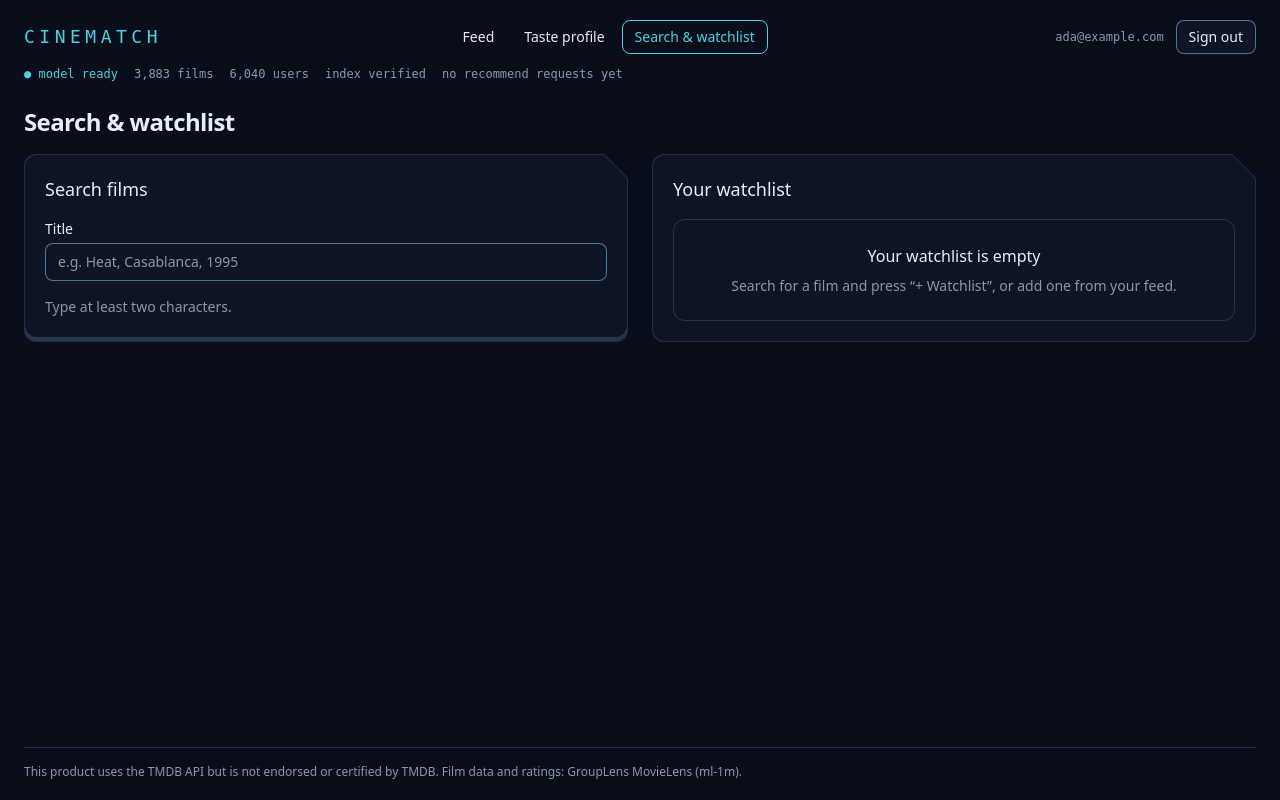
Search & watchlist › has an empty state for no matches and for an empty watchlist
This screenshot has width=1280, height=800.
Expected: the text "Your watchlist is empty" is shown, [868, 245, 1041, 267]
Type "zzzzzz" into the search field labelled "Title" at [326, 262], box [45, 243, 607, 281]
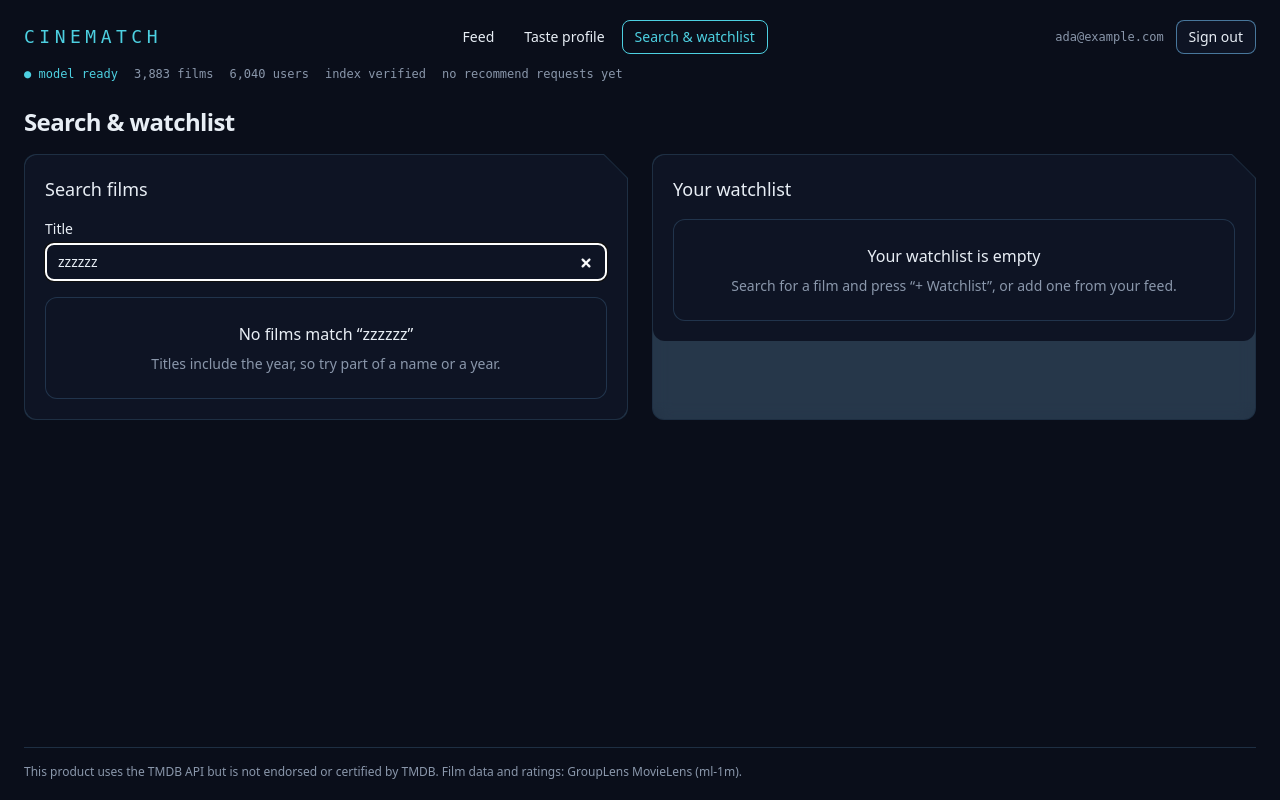
Now the text "No films match “zzzzzz”" is shown, box [239, 323, 413, 345]
